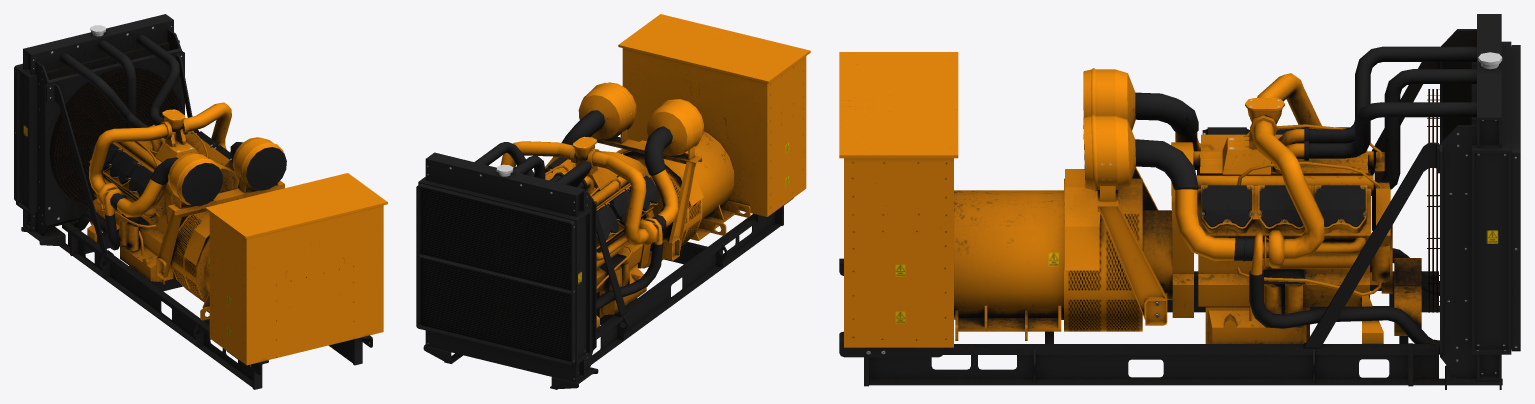
File: Generator-final.dae
3 views of the same model, side by side, from view 1: azimuth 30°, elevation 25°; view 2: azimuth 150°, elevation 25°; view 3: azimuth 270°, elevation 25° (orthographic). The views are drawn at different scales.
Visible parts, largest first — view 1: CAT_C-35; view 2: CAT_C-35; view 3: CAT_C-35.
Boxes of the visible parts, x1,y1,x2,y2 form: CAT_C-35: (14, 14, 387, 389); CAT_C-35: (416, 14, 810, 389); CAT_C-35: (839, 14, 1520, 389).
Bounding box in the file's own units: 0.3275 × 0.8641 × 0.4052.
